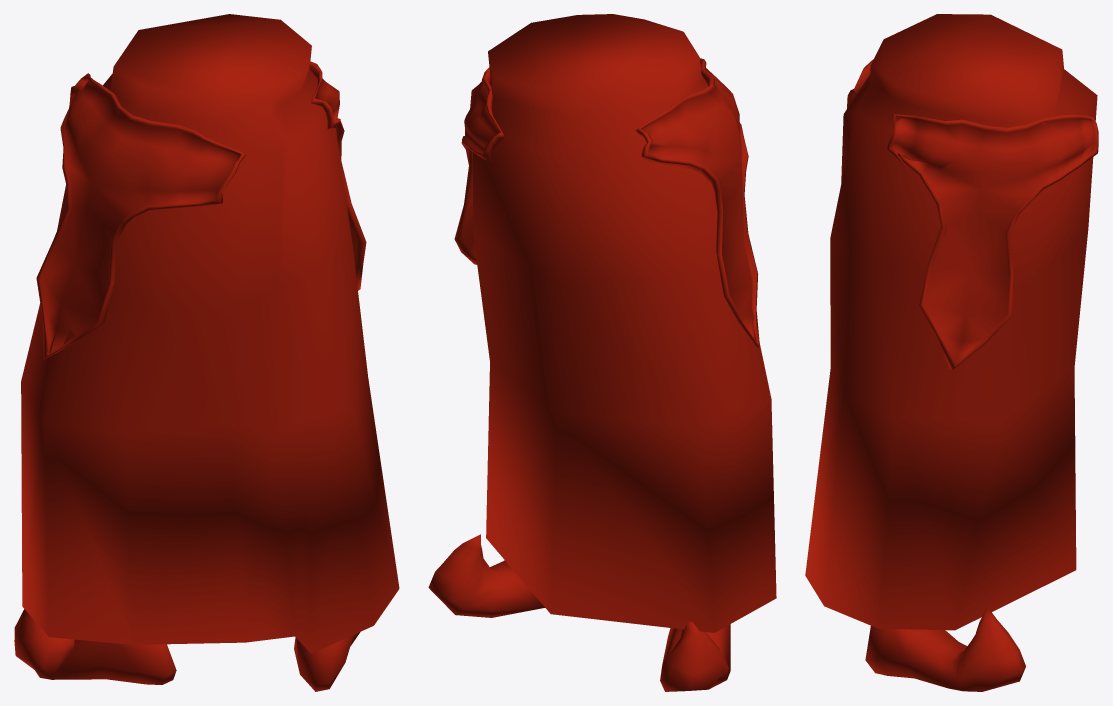
The model's file is bot_000060.obj.
The picture shows the model from 3 angles, left to right: view 1: azimuth 30°, elevation 25°; view 2: azimuth 150°, elevation 25°; view 3: azimuth 270°, elevation 25°; orthographic projection. The views are drawn at different scales.
Parts seen in each view (by area): view 1: LowPoly_Warlock.004_Plane.004; view 2: LowPoly_Warlock.004_Plane.004; view 3: LowPoly_Warlock.004_Plane.004.
Boxes of the visible parts, x1,y1,x2,y2 form: LowPoly_Warlock.004_Plane.004: (14, 14, 399, 691); LowPoly_Warlock.004_Plane.004: (428, 14, 776, 691); LowPoly_Warlock.004_Plane.004: (805, 14, 1098, 691).
Size of the model in its own units: 0.6284 by 1.12 by 0.5067.
